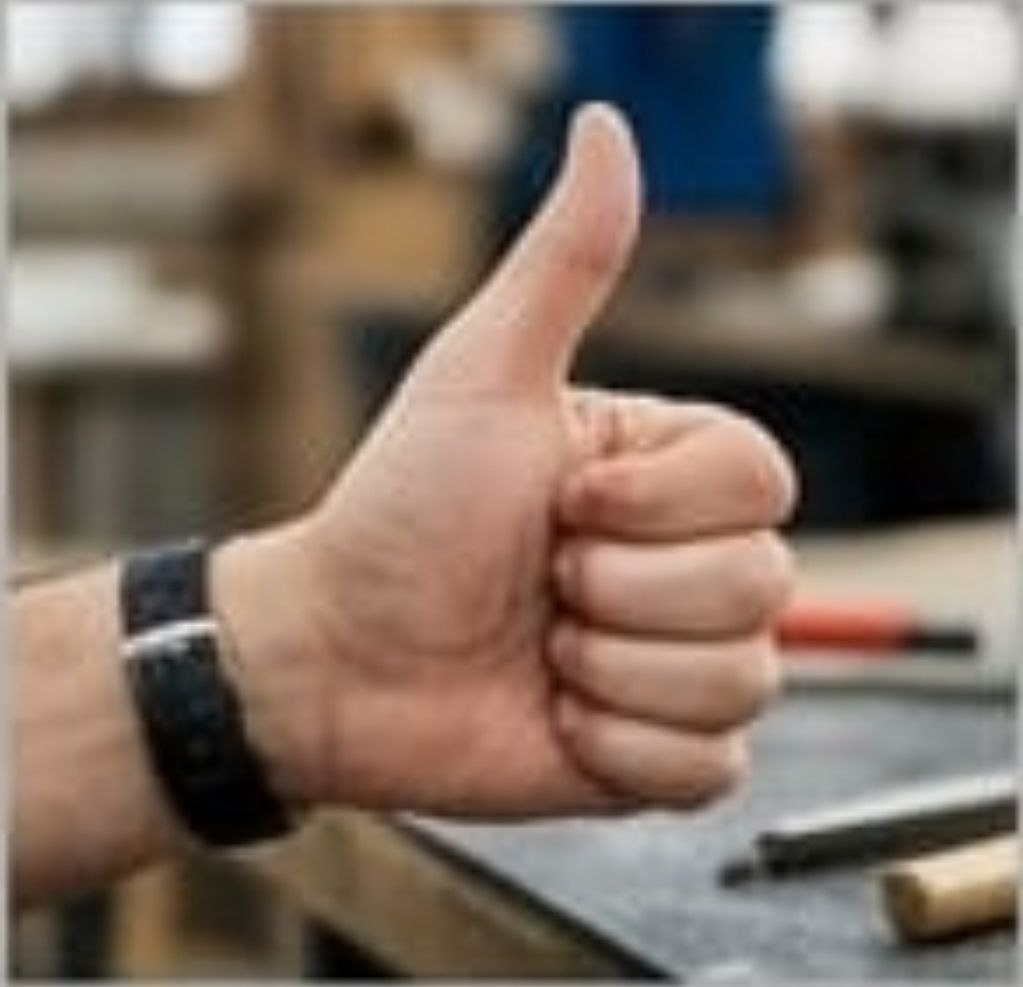Thumbs up: (320, 61, 812, 854)
